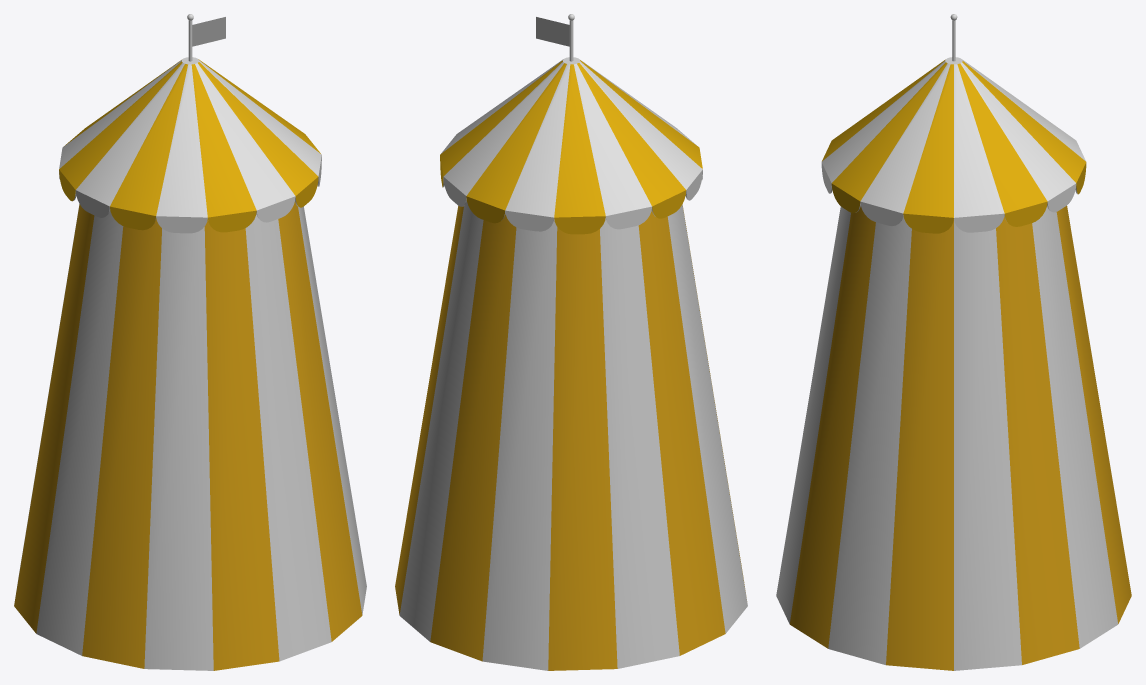
The model's file is pillartent_lowpoly.fbx.
The picture shows the model from 3 angles, left to right: view 1: azimuth 30°, elevation 25°; view 2: azimuth 150°, elevation 25°; view 3: azimuth 270°, elevation 25°; orthographic projection.
Visible parts, largest first — view 1: polySurface11, polySurface12, pPlane4; view 2: polySurface11, polySurface12, pPlane4; view 3: polySurface11, polySurface12.
Boxes of the visible parts, box(x1,y1,x2,y2) form: polySurface11: box(14, 201, 366, 670); polySurface12: box(59, 57, 321, 233); pPlane4: box(192, 17, 225, 46); polySurface11: box(395, 201, 747, 670); polySurface12: box(440, 57, 702, 234); pPlane4: box(536, 17, 569, 46); polySurface11: box(776, 205, 1131, 670); polySurface12: box(821, 57, 1086, 233).
Bounding box in the file's own units: 11.07 × 19.98 × 11.07.
